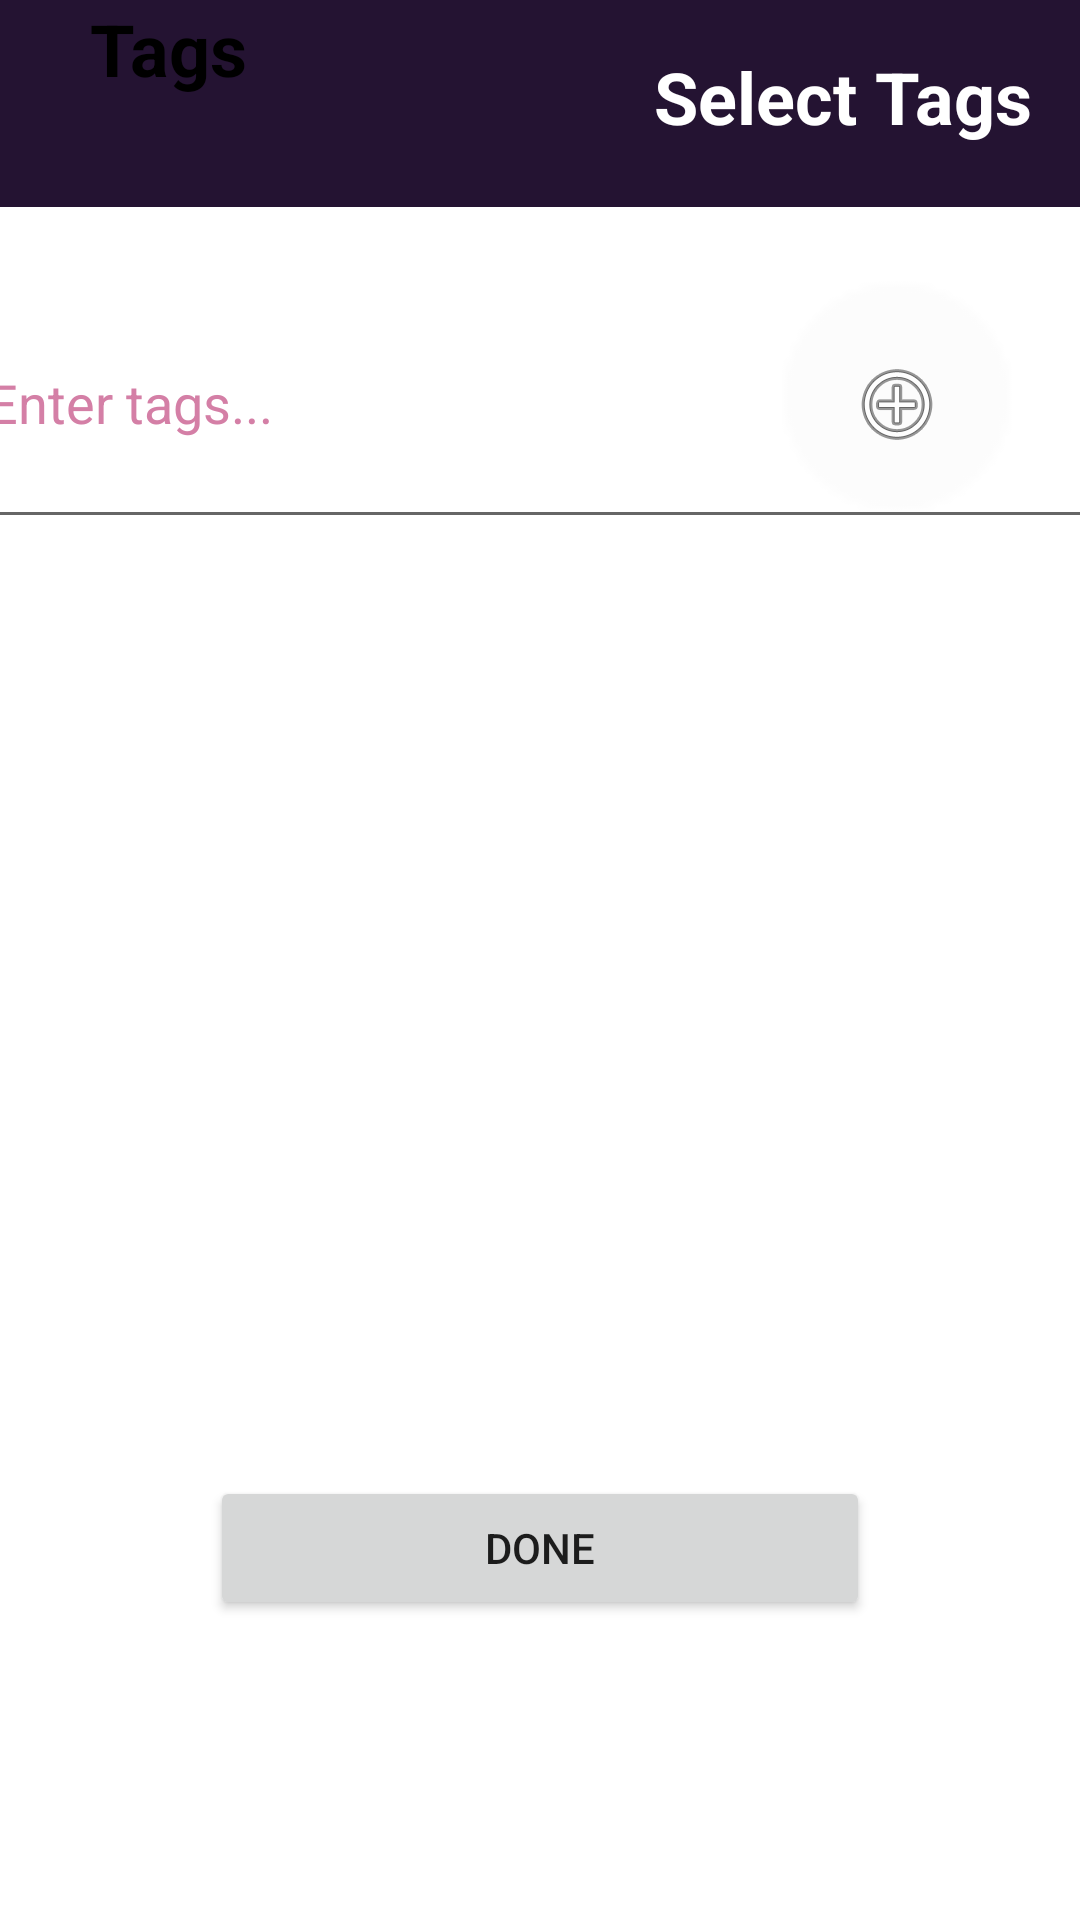

Icon click points for this 1080px×1920px phone screenshot, format [x,y]:
add: [897,404]
